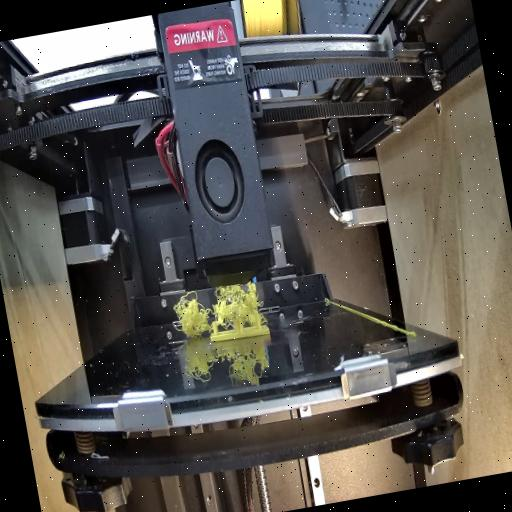spaghetti: (172, 278, 266, 336)
